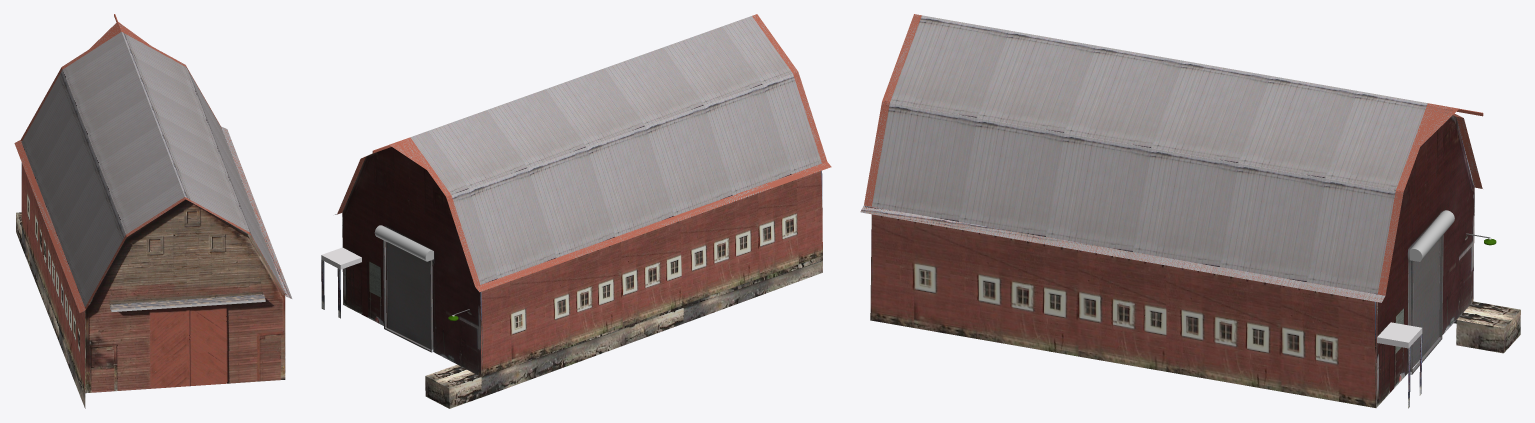
File: warehouse_model.dae
3 views of the same model, side by side, from view 1: azimuth 30°, elevation 25°; view 2: azimuth 150°, elevation 25°; view 3: azimuth 270°, elevation 25° (orthographic). The views are drawn at different scales.
Visible parts, largest first — view 1: Model; view 2: Model; view 3: Model.
Boxes of the visible parts, left/top/right/bottom form: Model: left=14, top=14, right=292, bottom=408; Model: left=321, top=14, right=831, bottom=408; Model: left=860, top=14, right=1520, bottom=408.
Bounding box in the file's own units: 666 × 936 × 444.
Materials: 17 (9 with a texture image).
